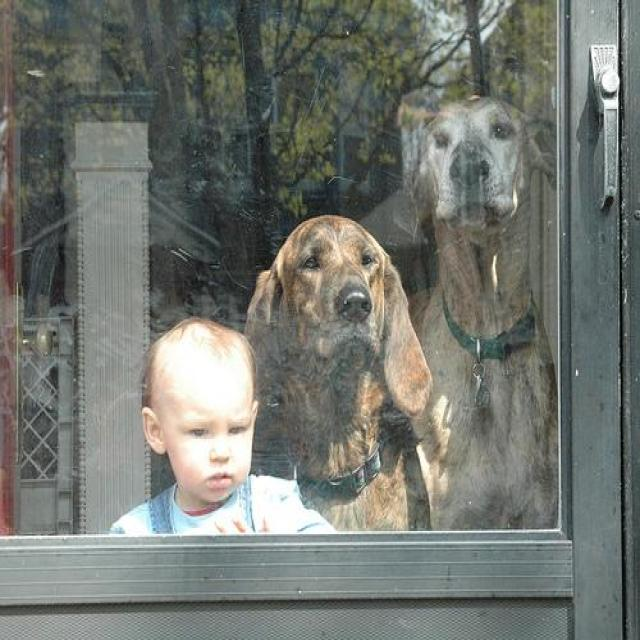bloodhound: (411, 95, 559, 534), (246, 215, 436, 532)
